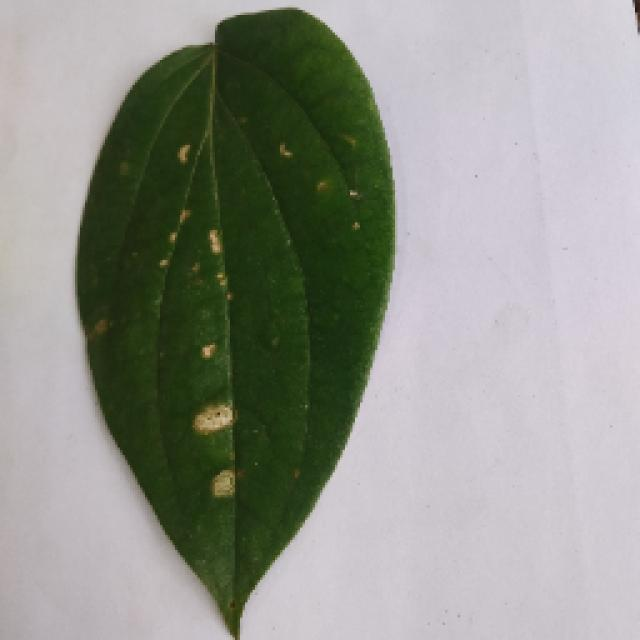pollu-disease: (60, 20, 392, 628)
